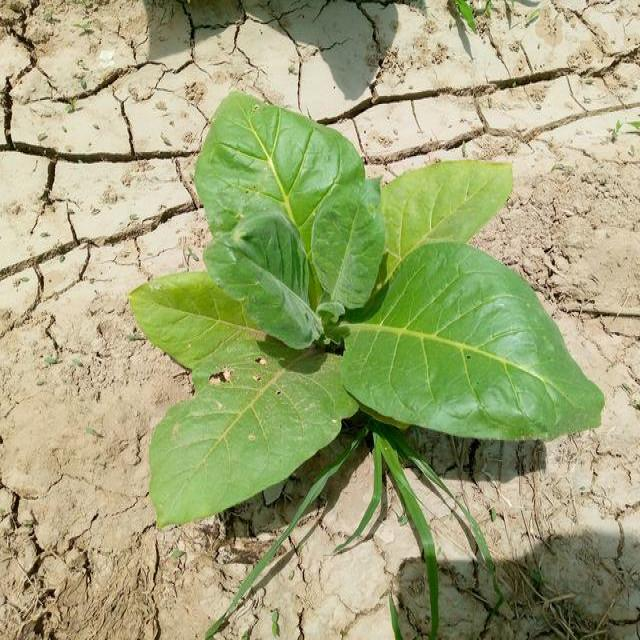crop: (141, 95, 596, 528)
